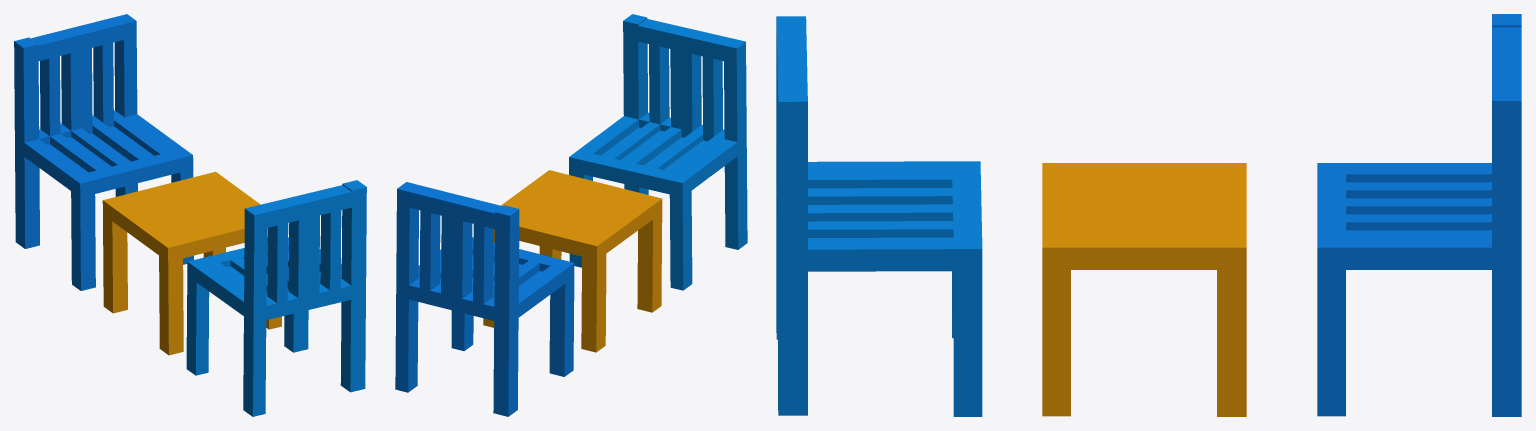
3 renders of one model, left to right at view 1: azimuth 30°, elevation 25°; view 2: azimuth 150°, elevation 25°; view 3: azimuth 270°, elevation 25°, orthographic. The views are drawn at different scales.
Visible parts, largest first — view 1: Cube.001, Cube.002, Cube; view 2: Cube.002, Cube.001, Cube; view 3: Cube.002, Cube.001, Cube.
Boxes of the visible parts, x1,y1,x2,y2 form: Cube.001: (14,14,193,290); Cube.002: (186,180,366,416); Cube: (102,171,281,355); Cube.002: (569,14,747,290); Cube.001: (395,182,574,416); Cube: (483,170,662,352); Cube.002: (776,16,982,416); Cube.001: (1317,14,1521,416); Cube: (1042,163,1246,416).
Size of the model in its own units: 205 by 343 by 730.
